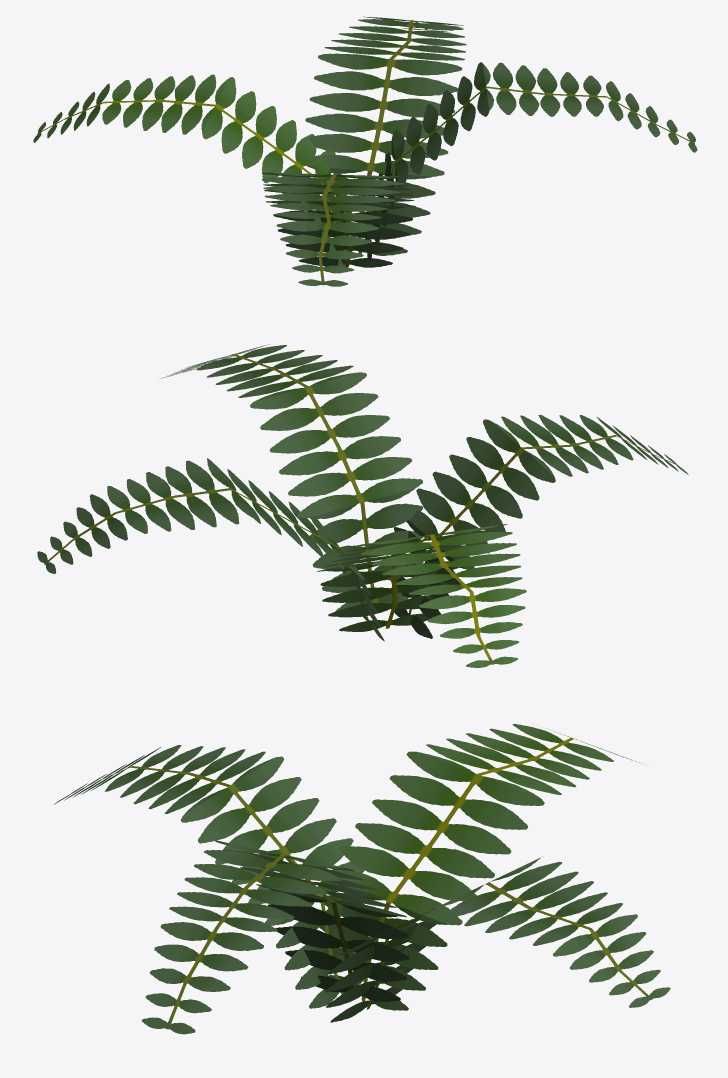
Rendered from ARC0710002.fbx.
3 views of the same model, one above another, from view 1: azimuth 30°, elevation 25°; view 2: azimuth 150°, elevation 25°; view 3: azimuth 270°, elevation 25° (orthographic). The views are drawn at different scales.
Visible parts, largest first — view 1: smARC0710002; view 2: smARC0710002; view 3: smARC0710002.
Part boxes in pixels (x1=…): smARC0710002: x1=33, y1=16, x2=697, y2=286; smARC0710002: x1=37, y1=344, x2=688, y2=667; smARC0710002: x1=53, y1=724, x2=670, y2=1034.
Bounding box in the file's own units: 116 × 38.96 × 104.
1 material, 1 textured.
